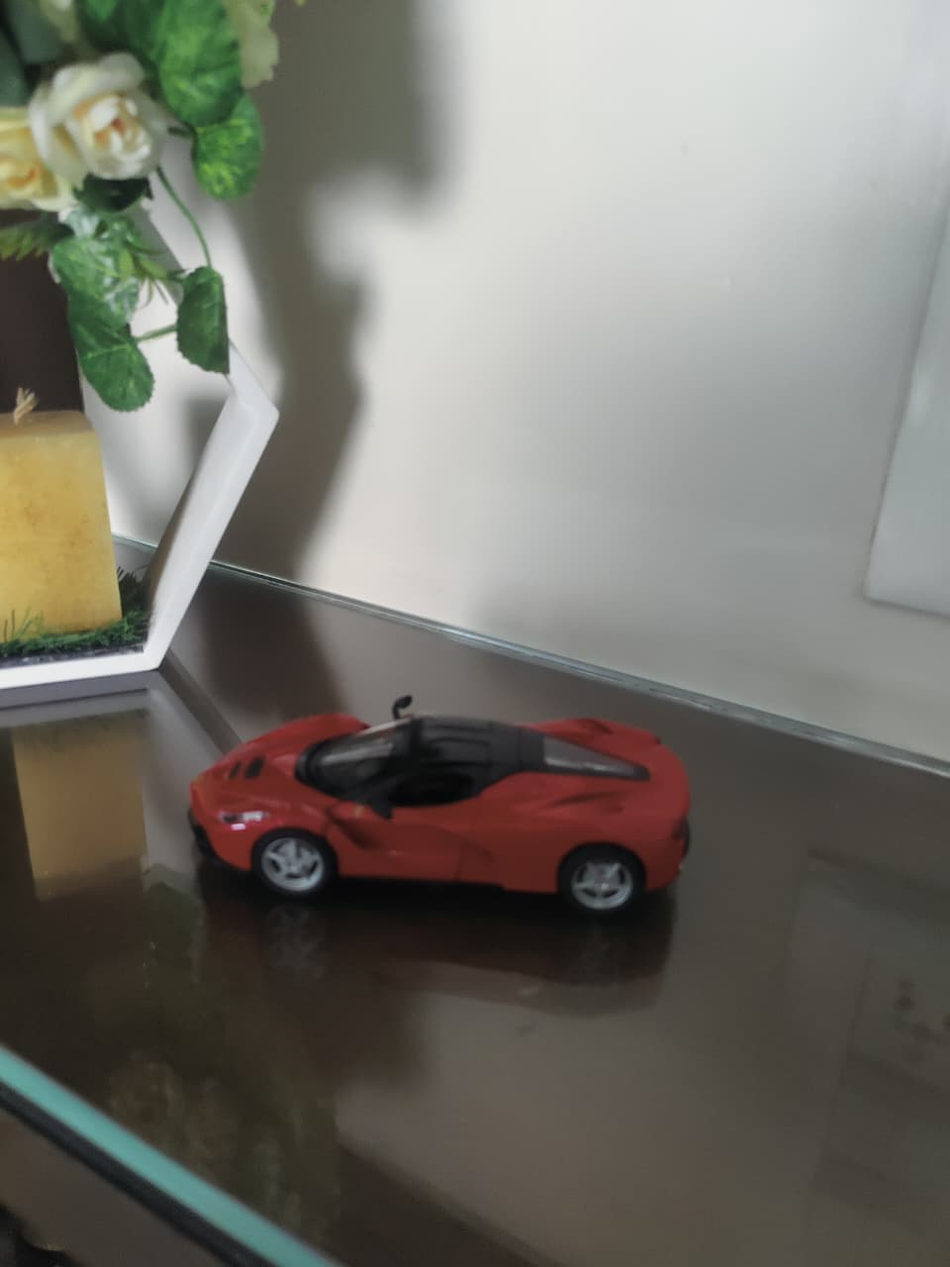car: (188, 694, 689, 909)
